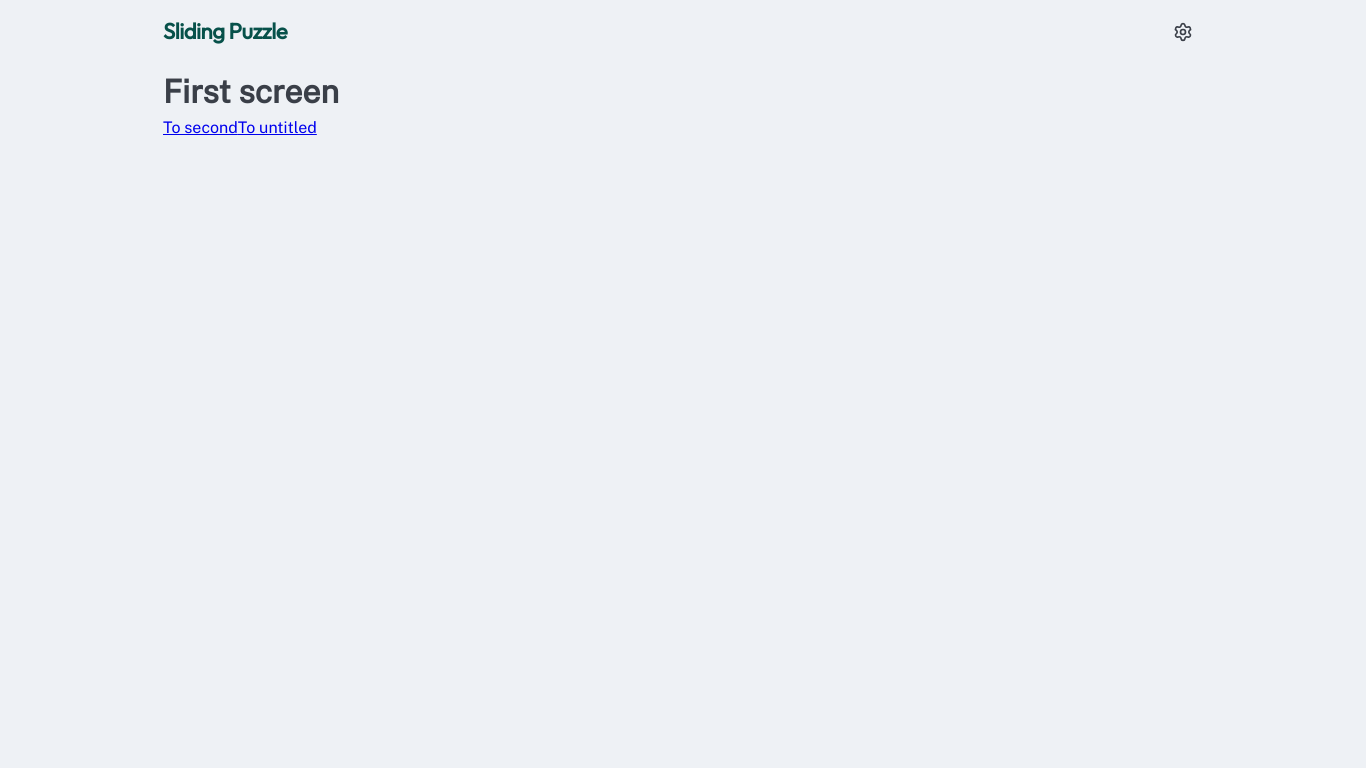
Test: AppShell › shuts Settings again when its close control is pressed
Click the button named "Settings" at point(1183, 32), box [1163, 12, 1203, 52]
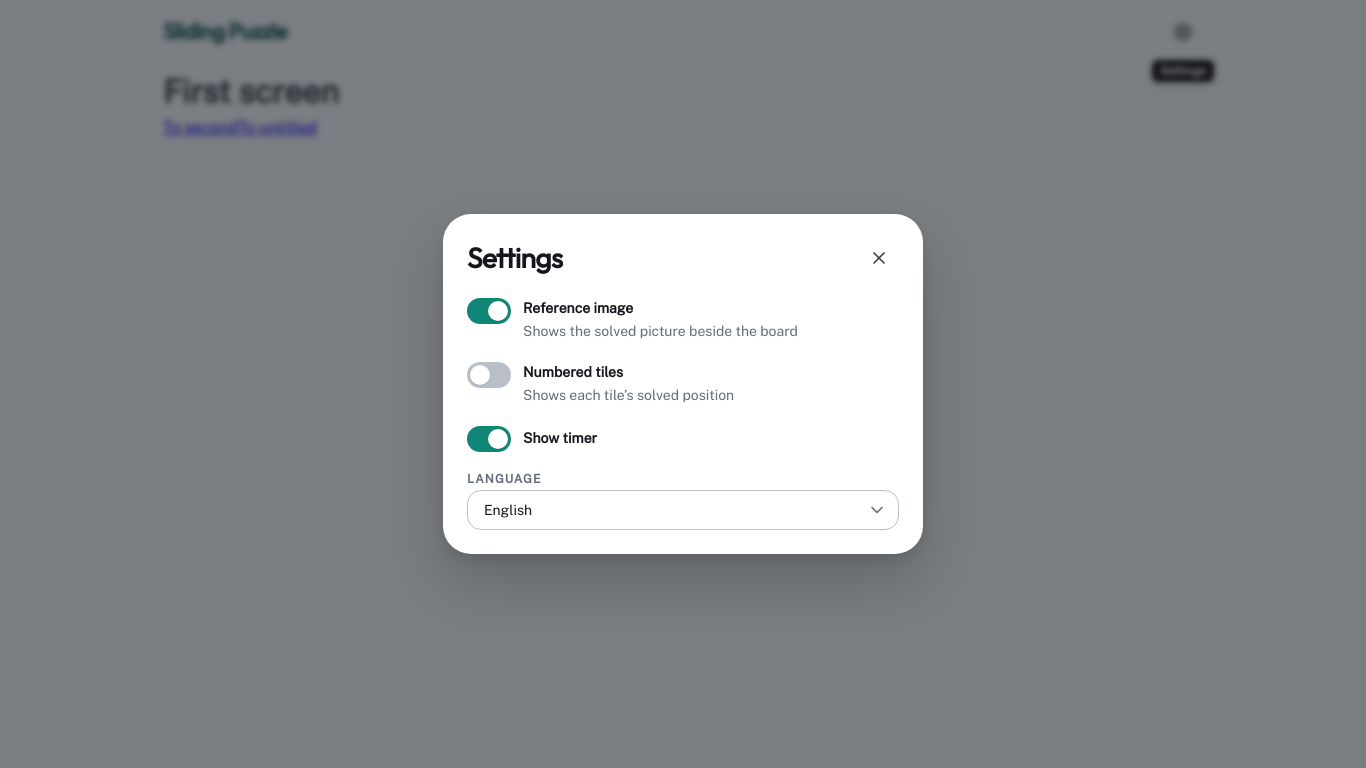
Click the button named "Close" at point(879, 258), box [859, 238, 899, 278]
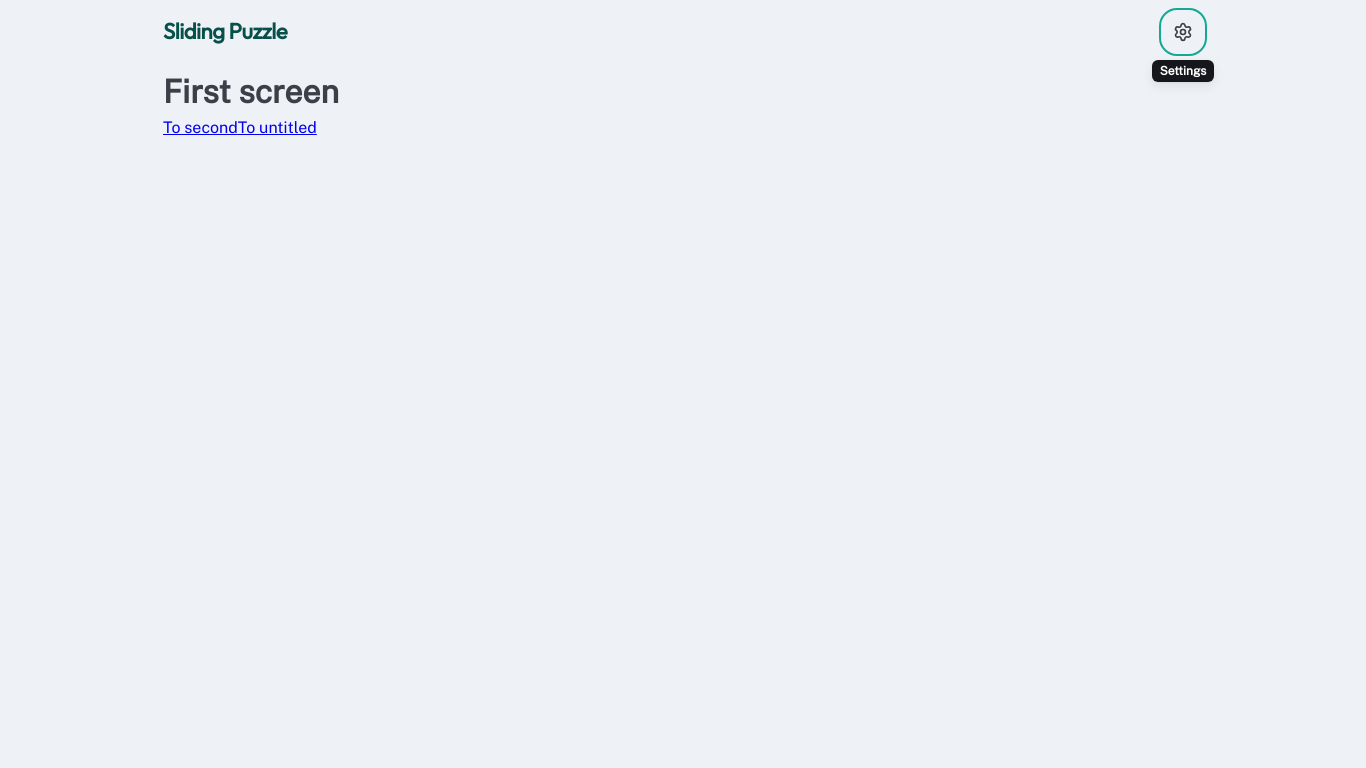
expect the dialog is gone: met
